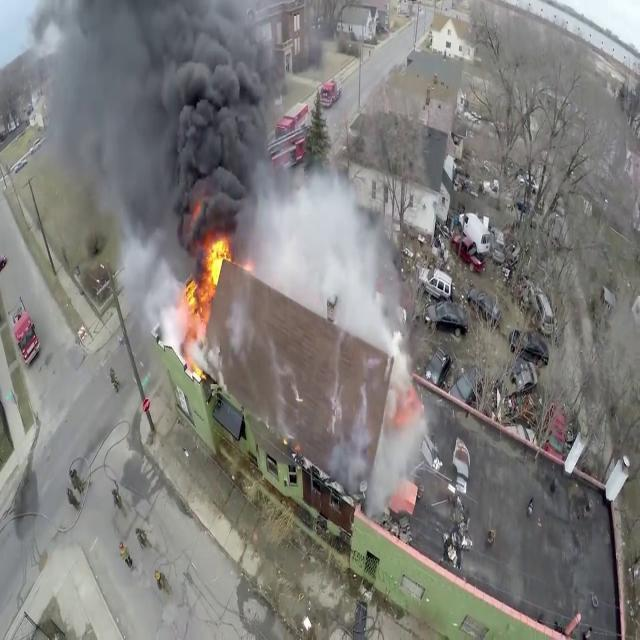Fire: (182, 224, 235, 334)
Smoke: (27, 0, 297, 320), (264, 146, 431, 499)
